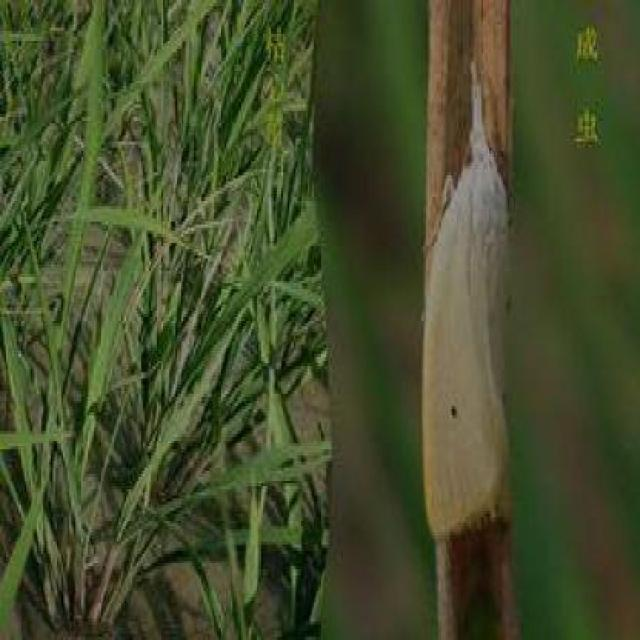stem-borer: (420, 59, 517, 546)
